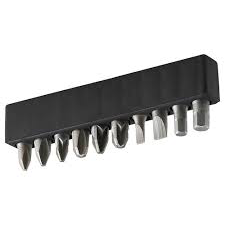Screwdriver: (8, 56, 221, 164)
